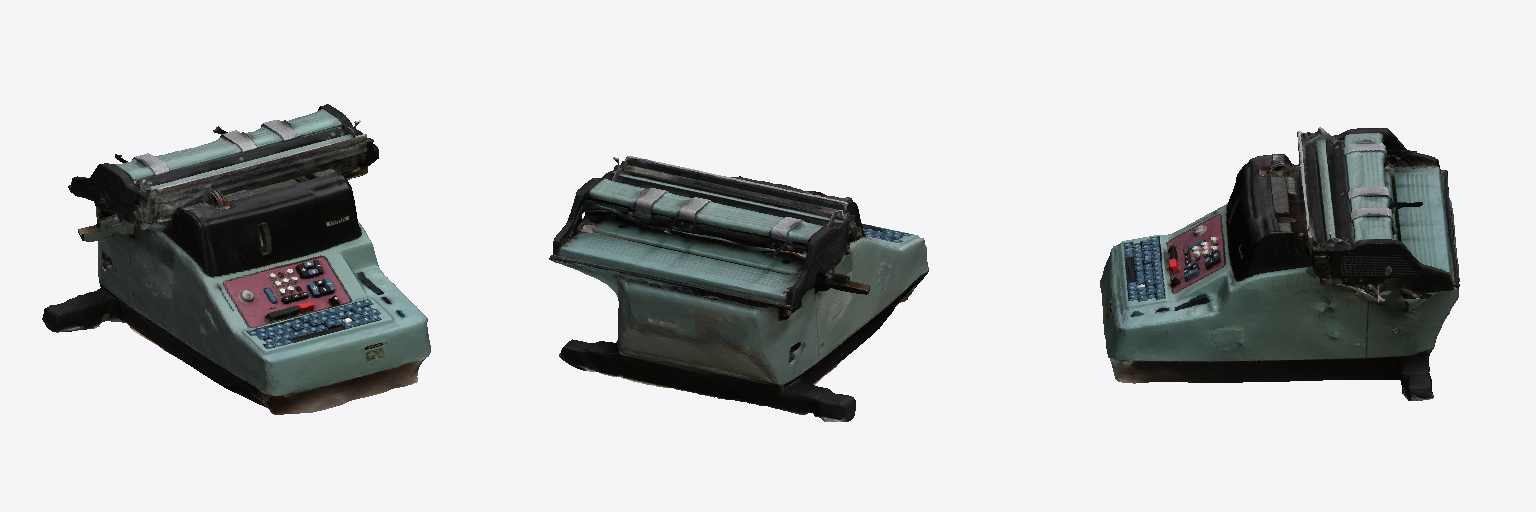
3 renders of one model, left to right at view 1: azimuth 30°, elevation 25°; view 2: azimuth 150°, elevation 25°; view 3: azimuth 270°, elevation 25°, orthographic.
Bounding box in the file's own units: 18.04 × 10.15 × 19.27.
Materials: 1 (1 with a texture image).